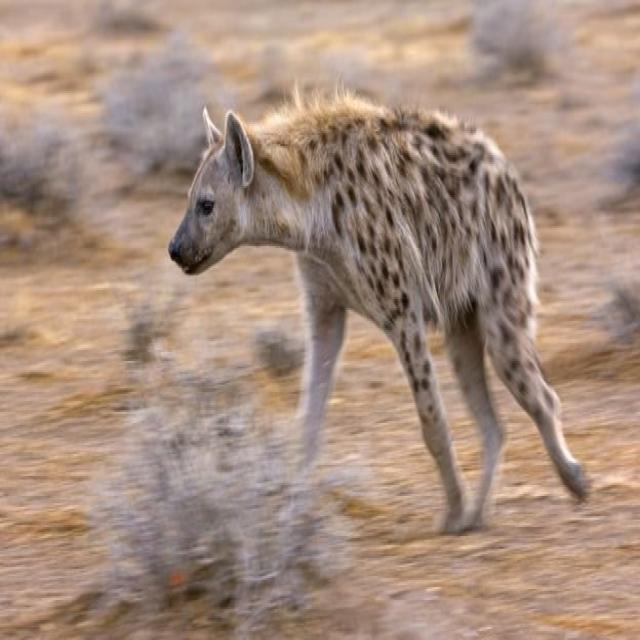Hyena: (168, 101, 621, 530)
